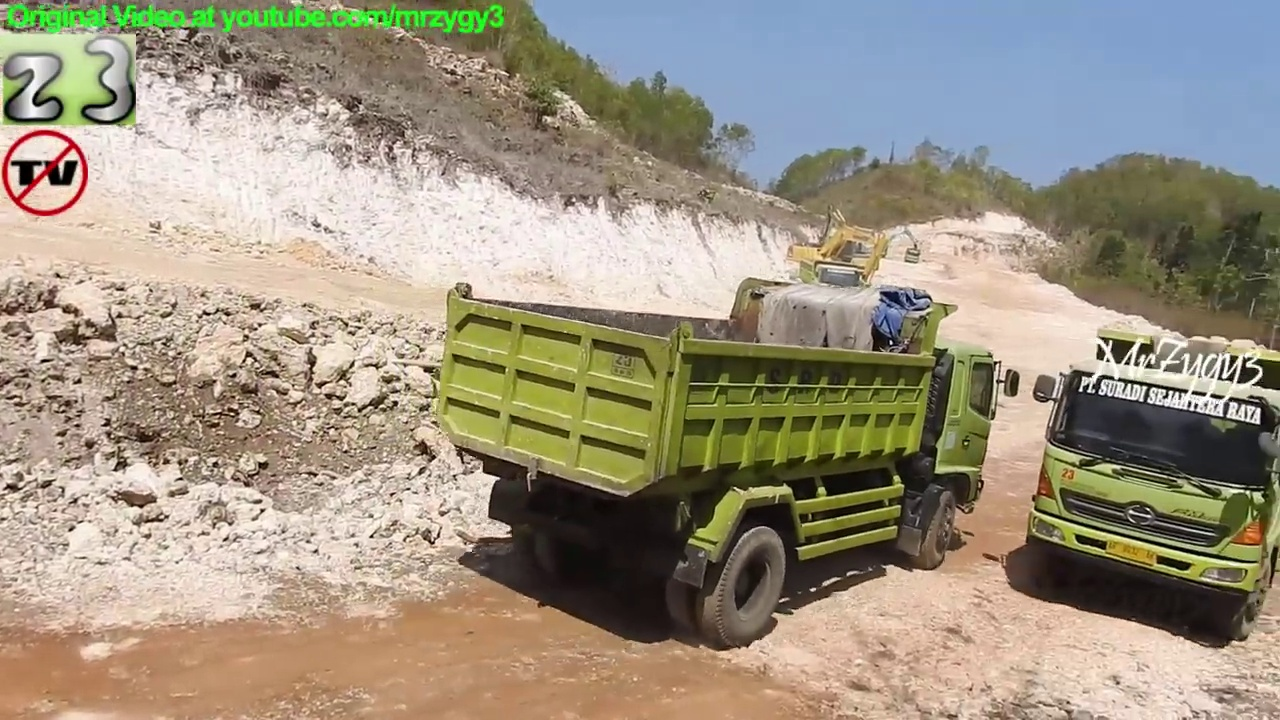excavator: (788, 224, 892, 290), (816, 202, 871, 269), (871, 220, 922, 262)
truck: (431, 278, 1023, 651), (1023, 317, 1280, 649), (796, 257, 867, 316), (902, 243, 924, 267)
